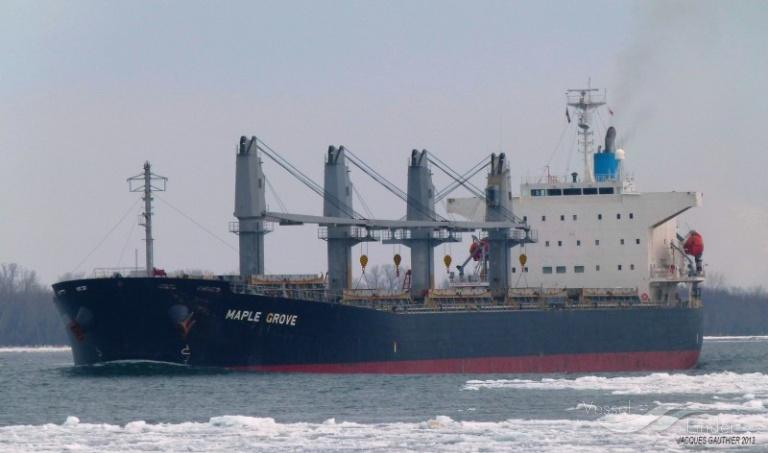OCR: (212, 298, 306, 336)
